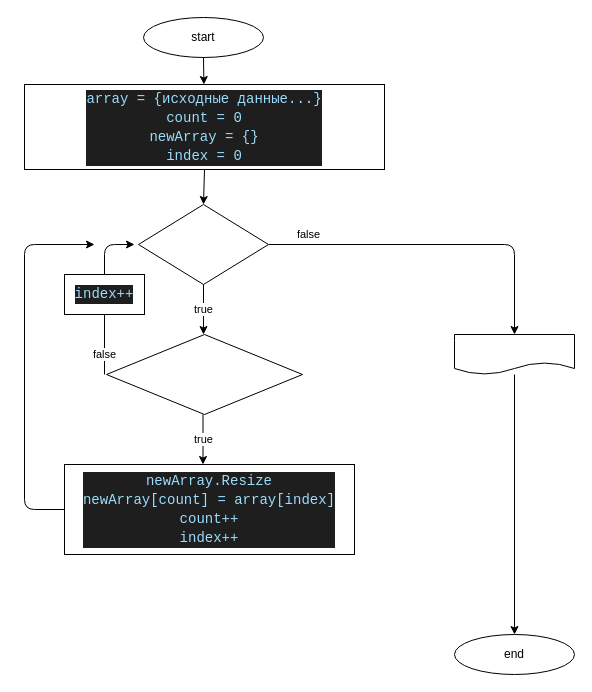
Image size: 592x692. Some labels were removed from this diagram. The shapes that lost their labels are listed below. From the top down, each one's centre as x and y in pixels, then its label:
pixel 203 244: index < array.Lengnh
pixel 204 374: array[index].Length <=3
pixel 514 354: newArray[]
